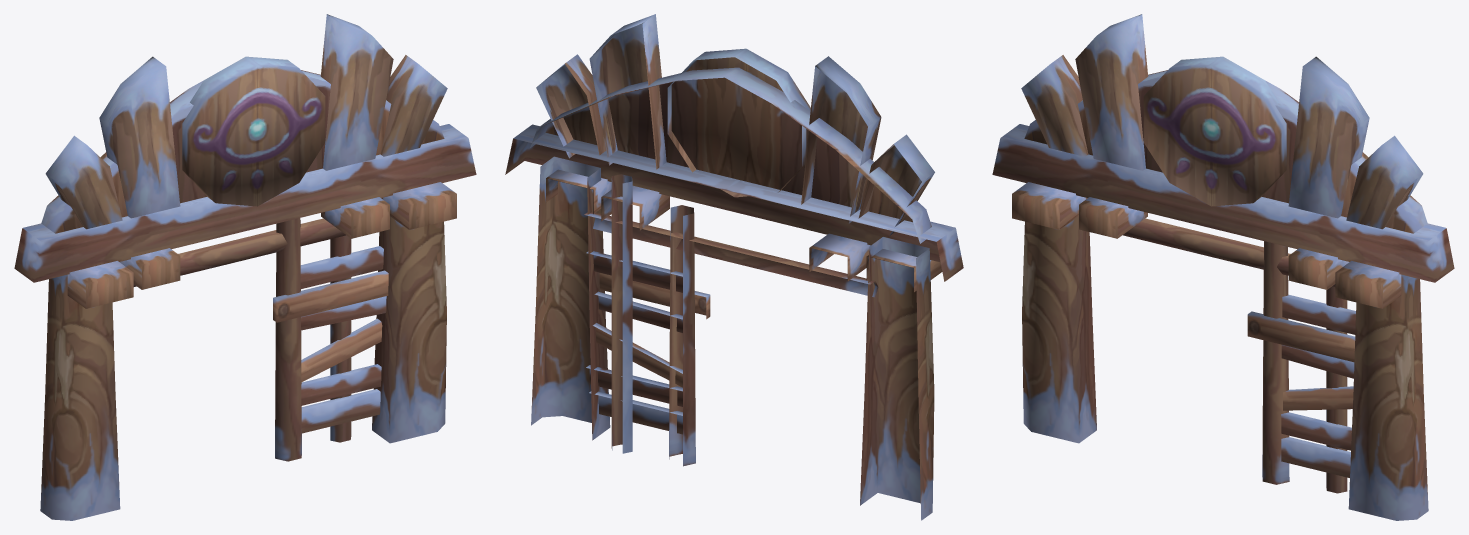
File: Map_10_wooden01.FBX
3 renders of one model, left to right at view 1: azimuth 30°, elevation 25°; view 2: azimuth 150°, elevation 25°; view 3: azimuth 330°, elevation 25°, orthographic.
Visible parts, largest first — view 1: Map_10_wooden01; view 2: Map_10_wooden01; view 3: Map_10_wooden01.
Part boxes in pixels (left/top/right/bottom): Map_10_wooden01: left=14, top=14, right=476, bottom=520; Map_10_wooden01: left=505, top=14, right=963, bottom=520; Map_10_wooden01: left=992, top=14, right=1454, bottom=520.
Bounding box in the file's own units: 34.97 × 32.54 × 5.41.
